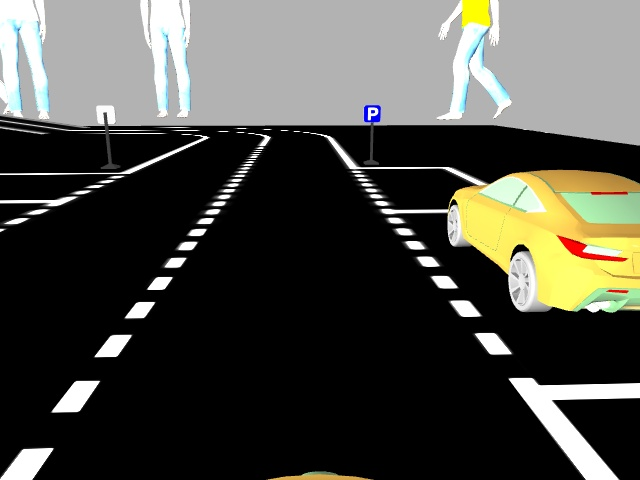Parking: (362, 103, 382, 122)
